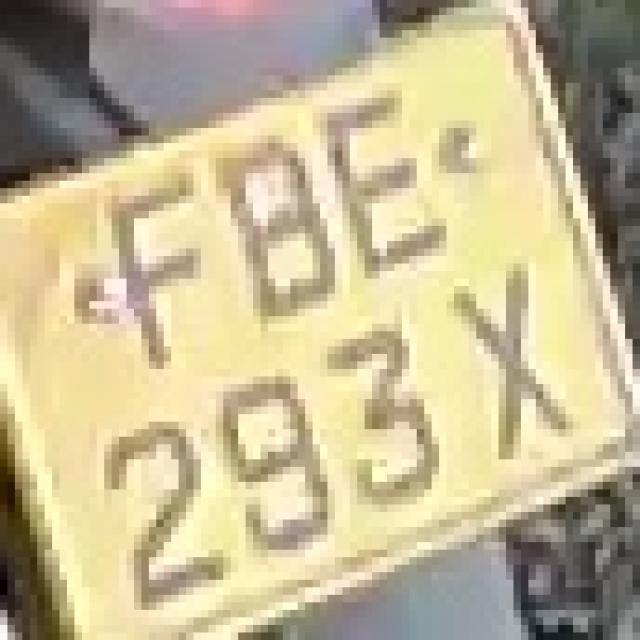2: (74, 392, 224, 618)
3: (298, 301, 454, 542)
9: (186, 361, 335, 565)
B: (208, 120, 335, 332)
E: (320, 82, 454, 294)
F: (89, 158, 201, 384)
X: (409, 233, 573, 460)
